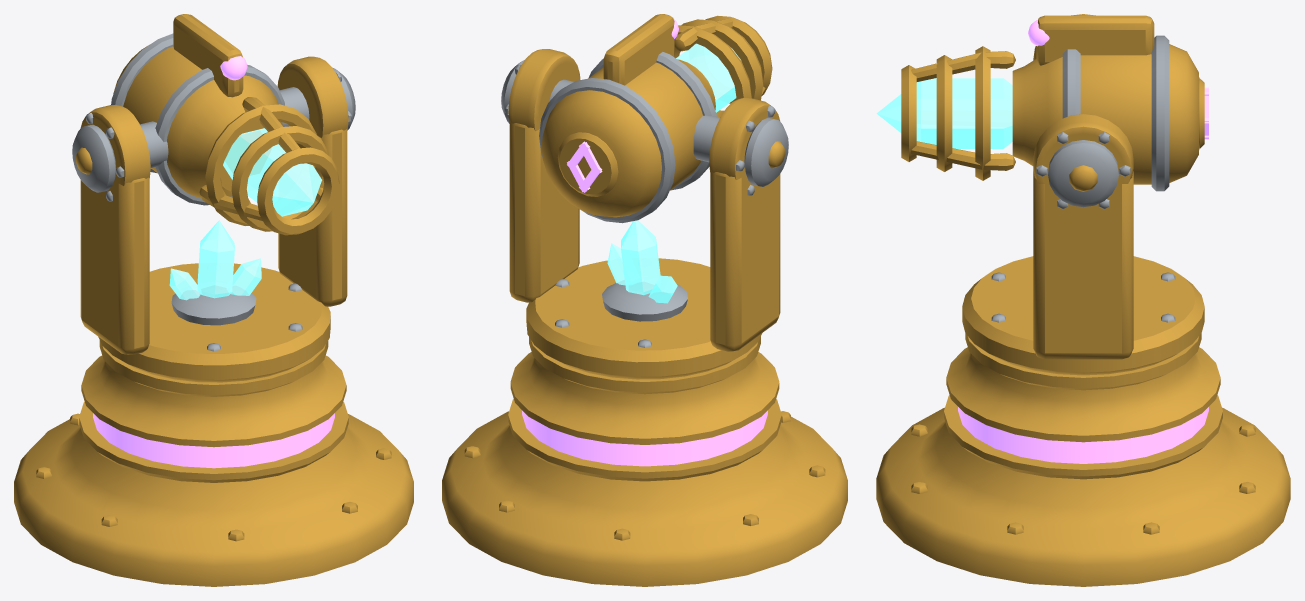
File: part_arcane_turret.glb
3 views of the same model, side by side, from view 1: azimuth 30°, elevation 25°; view 2: azimuth 150°, elevation 25°; view 3: azimuth 270°, elevation 25° (orthographic). The views are drawn at different scales.
Visible parts, largest first — view 1: Base, Yaw, Pitch; view 2: Base, Yaw, Pitch; view 3: Base, Yaw, Pitch.
Part boxes in pixels (x1=…): Base: x1=14, y1=340, x2=413, y2=586; Yaw: x1=72, y1=56, x2=355, y2=382; Pitch: x1=111, y1=14, x2=339, y2=235; Base: x1=442, y1=337, x2=847, y2=586; Yaw: x1=501, y1=49, x2=788, y2=379; Pitch: x1=539, y1=14, x2=772, y2=223; Base: x1=876, y1=333, x2=1290, y2=586; Yaw: x1=962, y1=14, x2=1204, y2=375; Pitch: x1=876, y1=15, x2=1208, y2=191.
Bounding box in the file's own units: 0.7 × 0.9 × 0.7.
